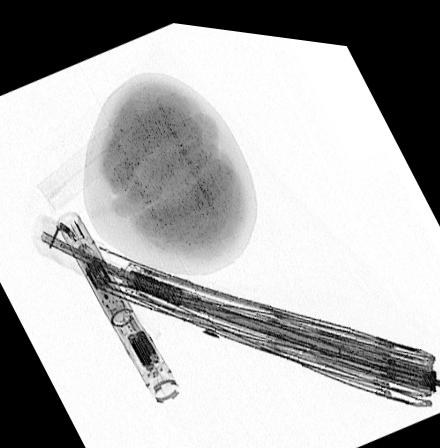Baton: (56, 207, 178, 398)
